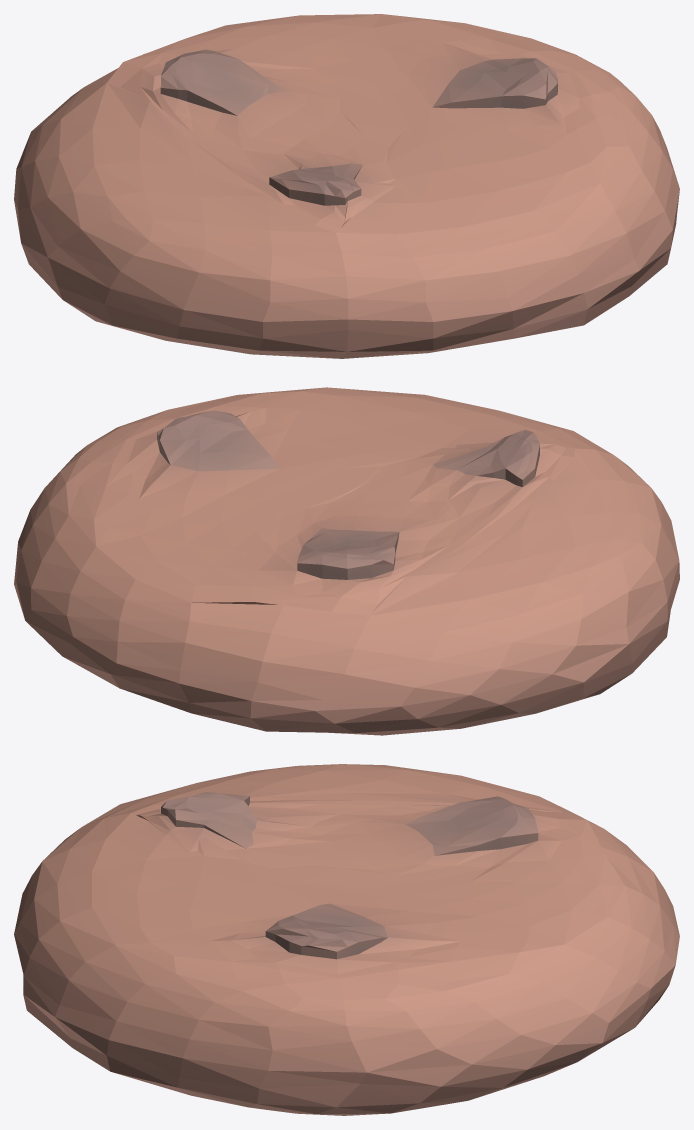
The model's file is cookie.glb.
The picture shows the model from 3 angles, top to bottom: view 1: azimuth 30°, elevation 25°; view 2: azimuth 150°, elevation 25°; view 3: azimuth 270°, elevation 25°; orthographic projection.
Bounding box in the file's own units: 0.5426 × 0.139 × 0.5386.
